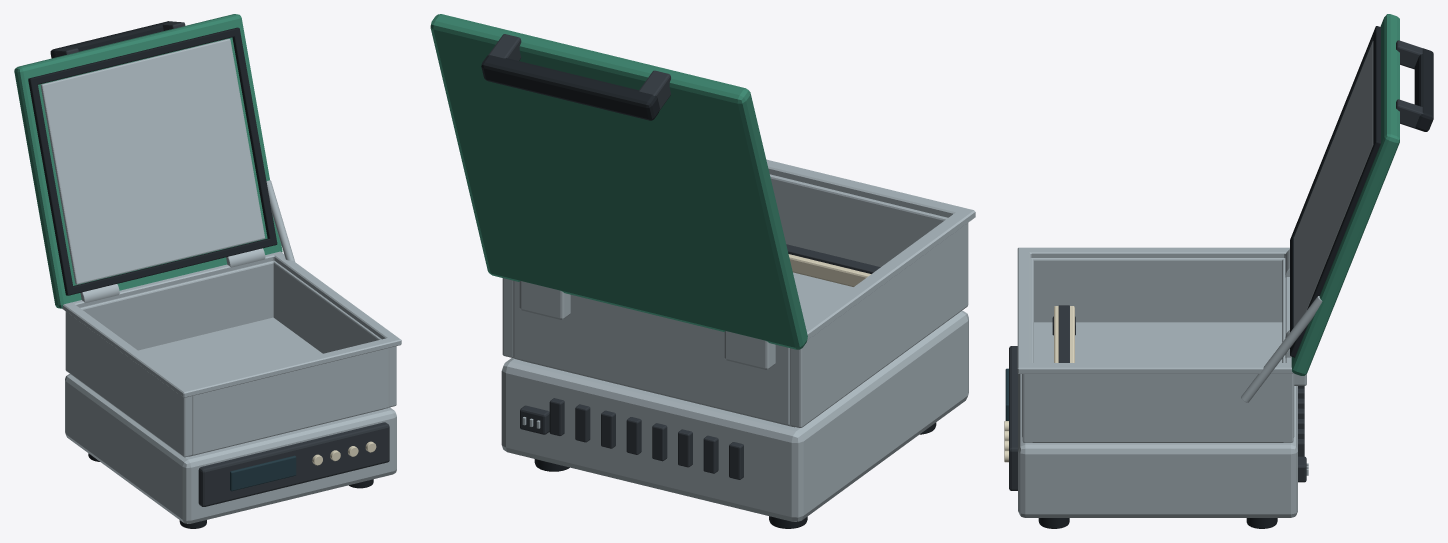
File: city-open-chamber-vacuum-sealer.glb
3 renders of one model, left to right at view 1: azimuth 30°, elevation 25°; view 2: azimuth 150°, elevation 25°; view 3: azimuth 270°, elevation 25°, orthographic. The views are drawn at different scales.
Visible parts, largest first — view 1: Assembly | Brushed exposed steel, Assembly | Green enamel machine body, Assembly | Rubber feet and hoses, Assembly | Dark mechanism trim, Assembly | Blank inactive control face; view 2: Assembly | Brushed exposed steel, Assembly | Green enamel machine body, Assembly | Dark mechanism trim, Assembly | Rubber feet and hoses, Assembly | Warm cream enamel; view 3: Assembly | Brushed exposed steel, Assembly | Green enamel machine body, Assembly | Rubber feet and hoses, Assembly | Dark mechanism trim, Assembly | Warm cream enamel.
Boxes of the visible parts, x1,y1,x2,y2 form: Assembly | Brushed exposed steel: (40,38,401,523); Assembly | Green enamel machine body: (14,14,282,308); Assembly | Rubber feet and hoses: (28,21,373,528); Assembly | Dark mechanism trim: (55,21,389,506); Assembly | Blank inactive control face: (230,455,296,491); Assembly | Brushed exposed steel: (501,159,975,521); Assembly | Green enamel machine body: (430,14,807,349); Assembly | Dark mechanism trim: (488,34,880,479); Assembly | Rubber feet and hoses: (481,55,936,528); Assembly | Warm cream enamel: (788,254,870,286); Assembly | Brushed exposed steel: (1017,41,1373,517); Assembly | Green enamel machine body: (1291,14,1399,375); Assembly | Rubber feet and hoses: (1038,26,1433,528); Assembly | Dark mechanism trim: (1009,40,1423,490); Assembly | Warm cream enamel: (1004,306,1074,462).
Bounding box in the file's own units: 0.492 × 0.7471 × 0.7189.
